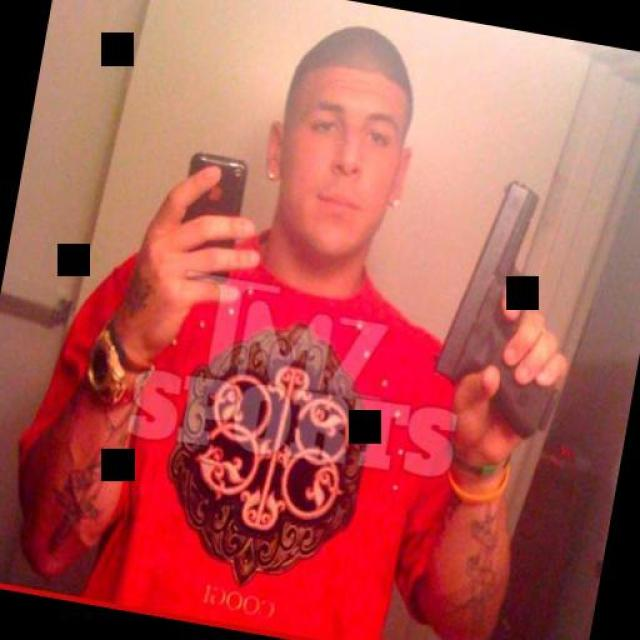gun: (411, 159, 599, 450)
